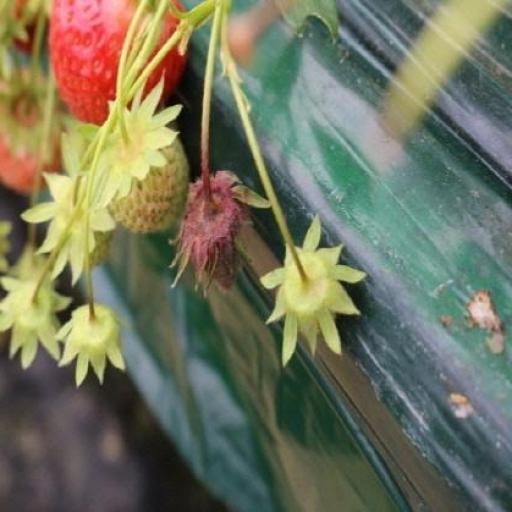Gray Mold: (260, 154, 347, 298)
